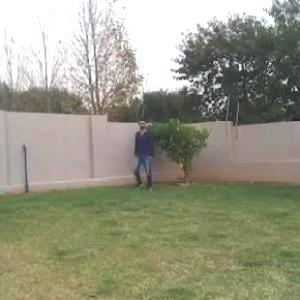follow: (135, 116, 153, 191)
